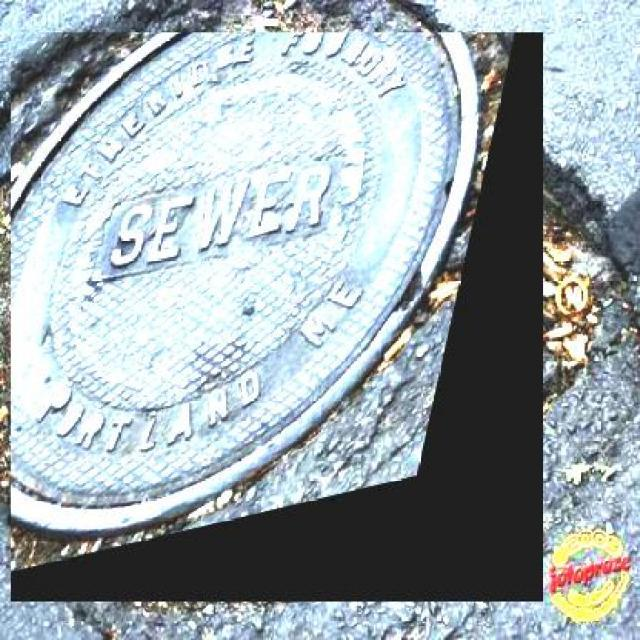Manhole: (11, 32, 544, 602)
